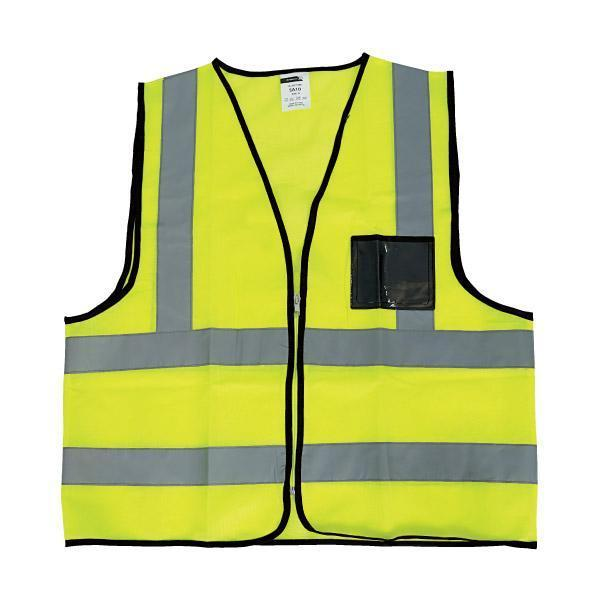vest: (63, 55, 539, 550)
